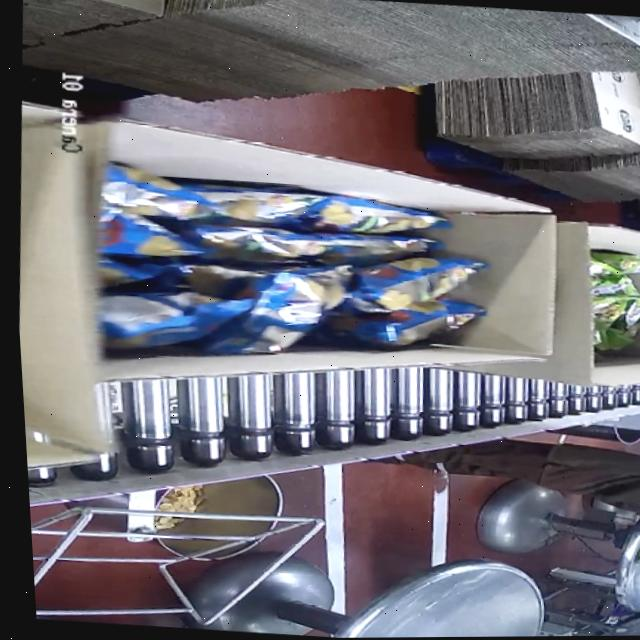PAPRIKA: (88, 154, 503, 363)
